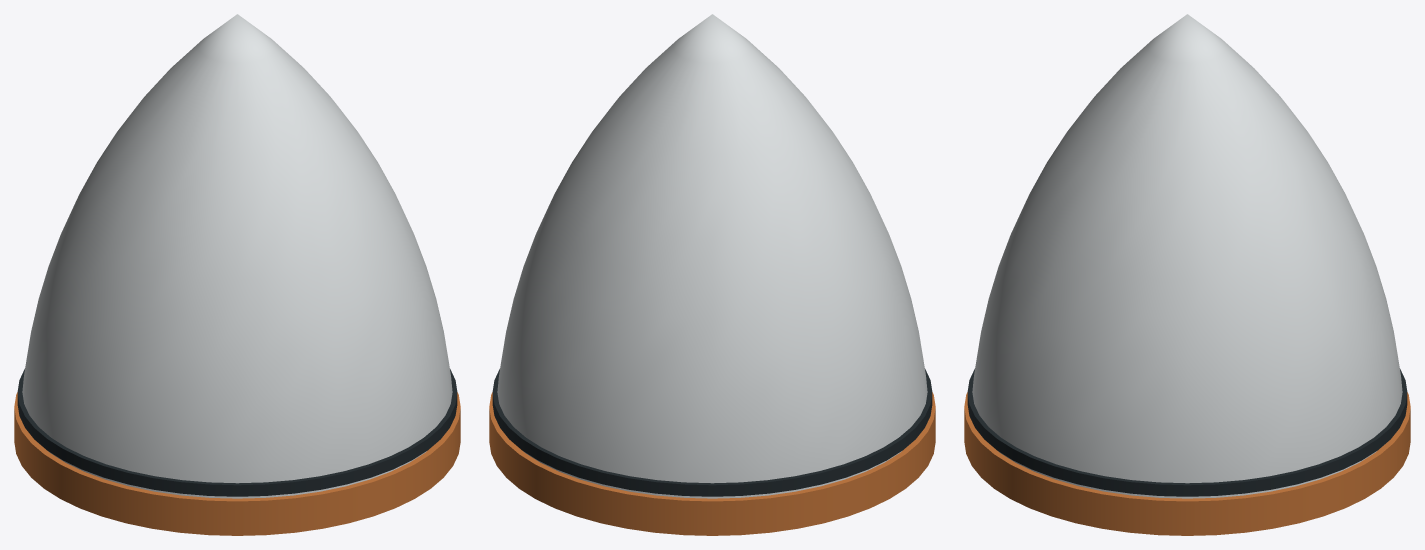
Rendered from procedural-srb-nose-cone.glb.
3 renders of one model, left to right at view 1: azimuth 30°, elevation 25°; view 2: azimuth 150°, elevation 25°; view 3: azimuth 270°, elevation 25°, orthographic.
Visible parts, largest first — view 1: SM_SRB_NoseCone_Shell, SM_SRB_NoseCone_BaseCollar, SM_SRB_NoseCone_Seal; view 2: SM_SRB_NoseCone_Shell, SM_SRB_NoseCone_BaseCollar, SM_SRB_NoseCone_Seal; view 3: SM_SRB_NoseCone_Shell, SM_SRB_NoseCone_BaseCollar, SM_SRB_NoseCone_Seal.
Boxes of the visible parts, x1,y1,x2,y2 form: SM_SRB_NoseCone_Shell: [22, 14, 452, 498]; SM_SRB_NoseCone_BaseCollar: [14, 392, 460, 535]; SM_SRB_NoseCone_Seal: [17, 369, 457, 496]; SM_SRB_NoseCone_Shell: [497, 14, 927, 498]; SM_SRB_NoseCone_BaseCollar: [489, 392, 935, 535]; SM_SRB_NoseCone_Seal: [492, 369, 932, 496]; SM_SRB_NoseCone_Shell: [972, 14, 1402, 498]; SM_SRB_NoseCone_BaseCollar: [964, 392, 1410, 535]; SM_SRB_NoseCone_Seal: [967, 369, 1407, 496].
Bounding box in the file's own units: 1.23 × 1.3 × 1.23.
